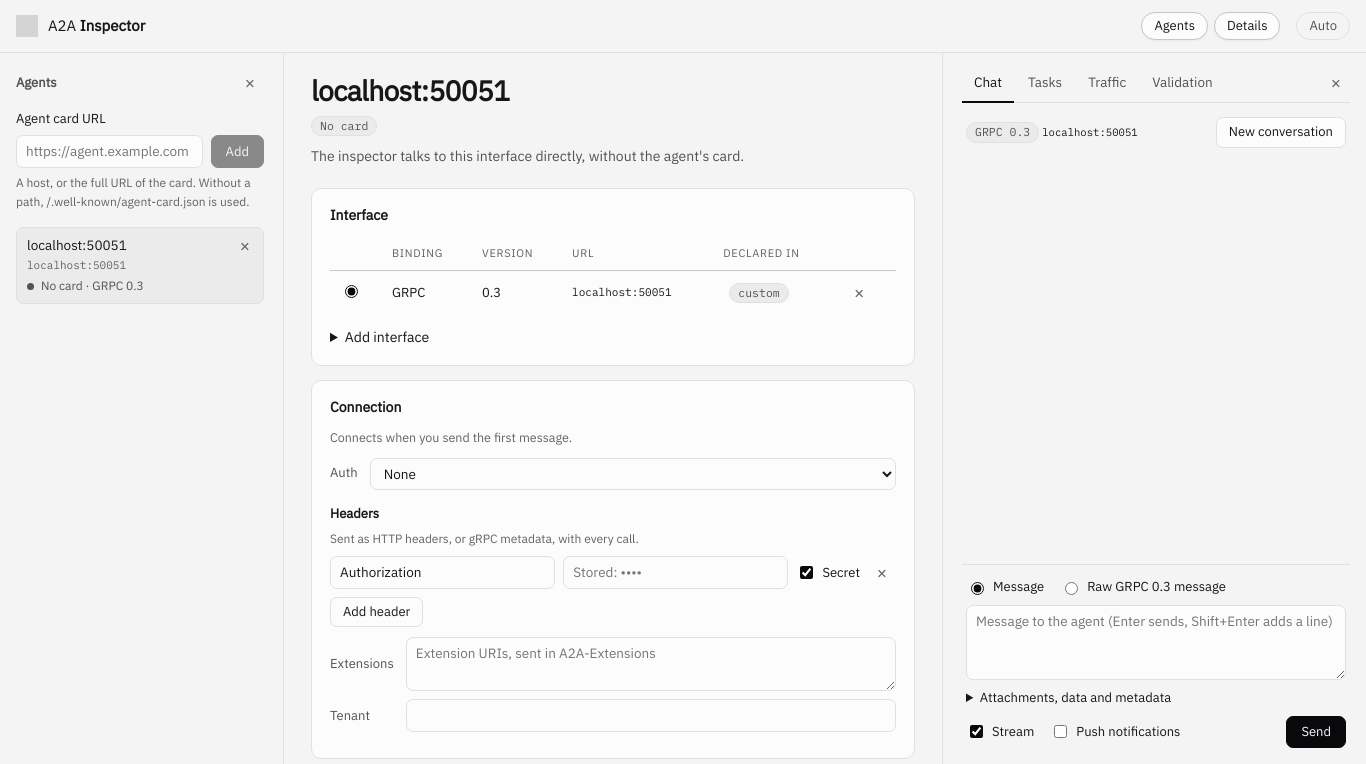
Test case: App › talking to agents › opens the endpoint given on the command line and adds interfaces by hand
The width and height of the screenshot is (1366, 764).
Expected: the text "No card" is shown, left=311, top=116, right=377, bottom=136
Expected: the text "No card · GRPC 0.3" is shown, left=27, top=277, right=144, bottom=296
Click the heading "Add interface": (387,337) left=345, top=328, right=429, bottom=346
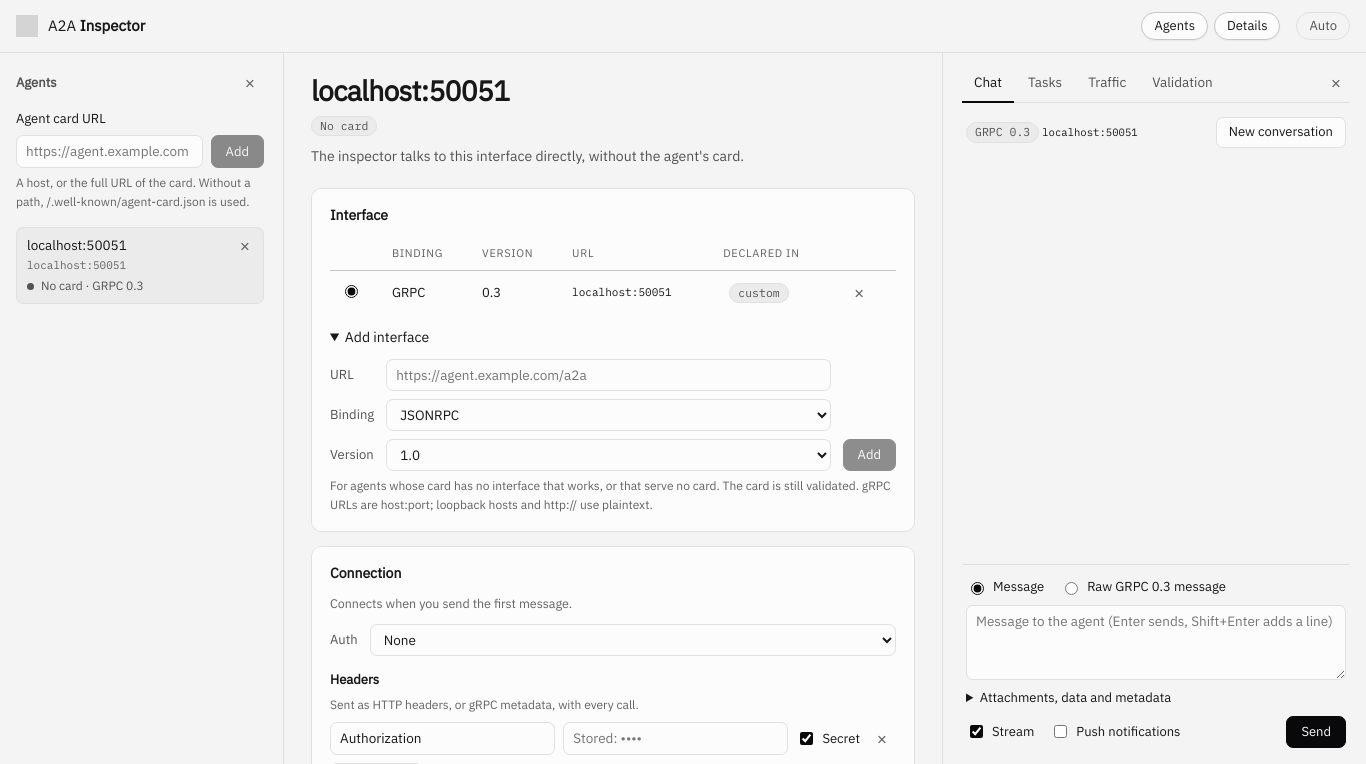
In the field labelled "URL": (608,375) left=386, top=358, right=831, bottom=391, type "http://localhost:9999/rest"
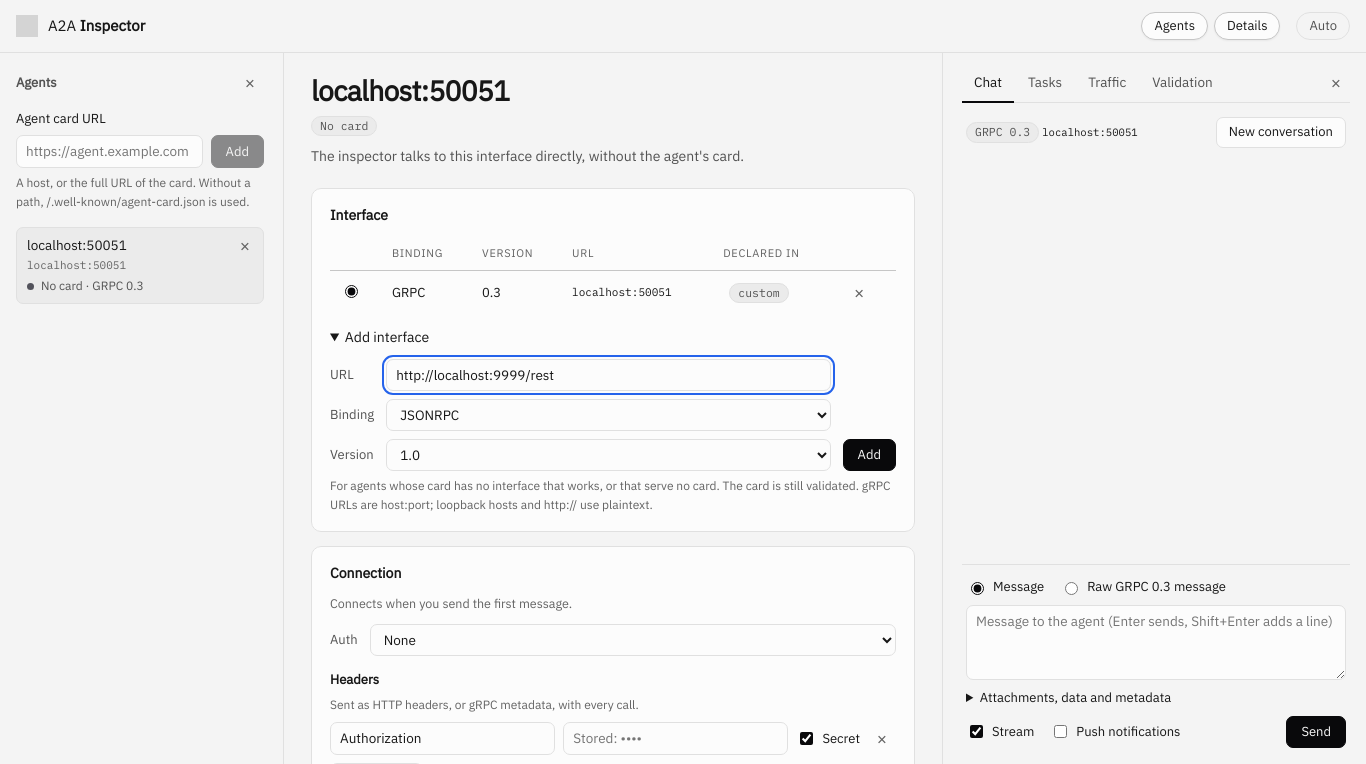
Select "HTTP+JSON" in the dropdown labelled "Binding": (608,415) left=386, top=399, right=831, bottom=431
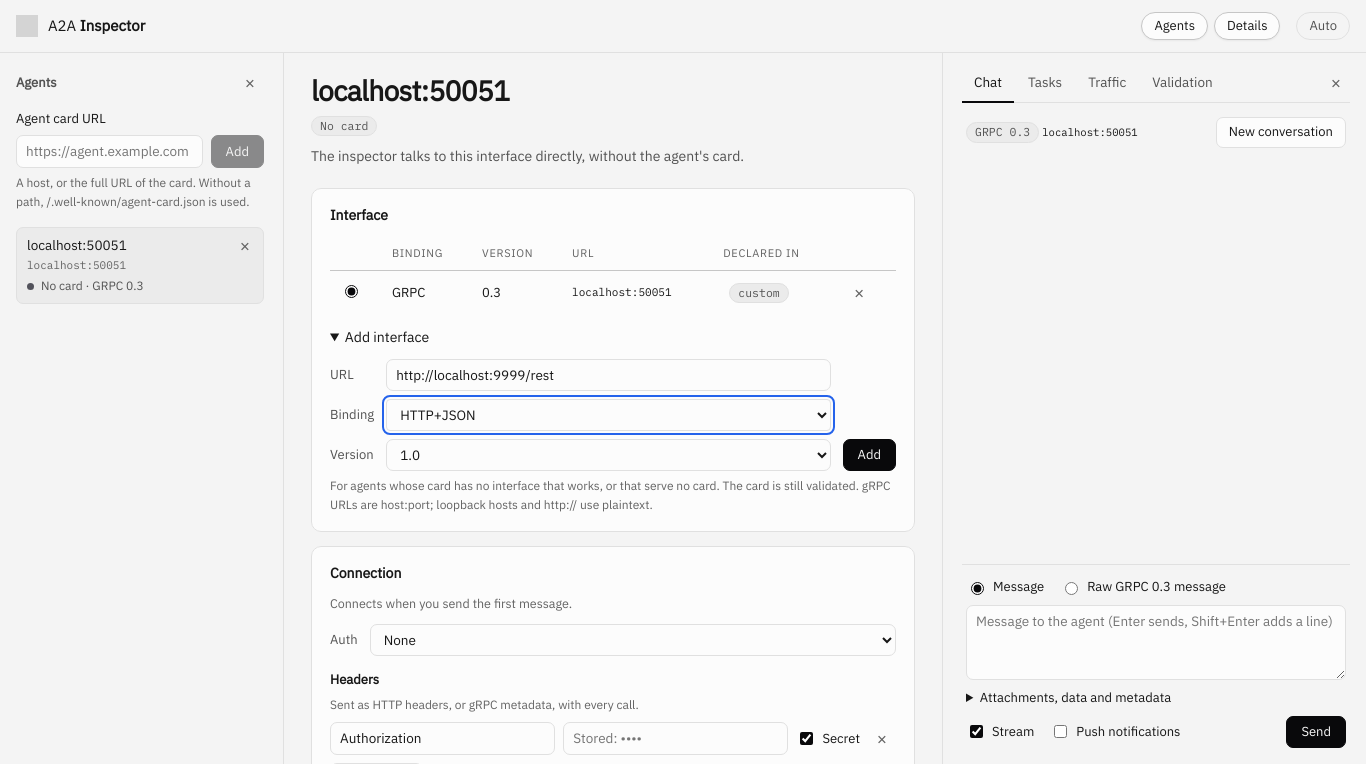
Click the button "Add" below "custom": (869,455) left=843, top=439, right=896, bottom=471
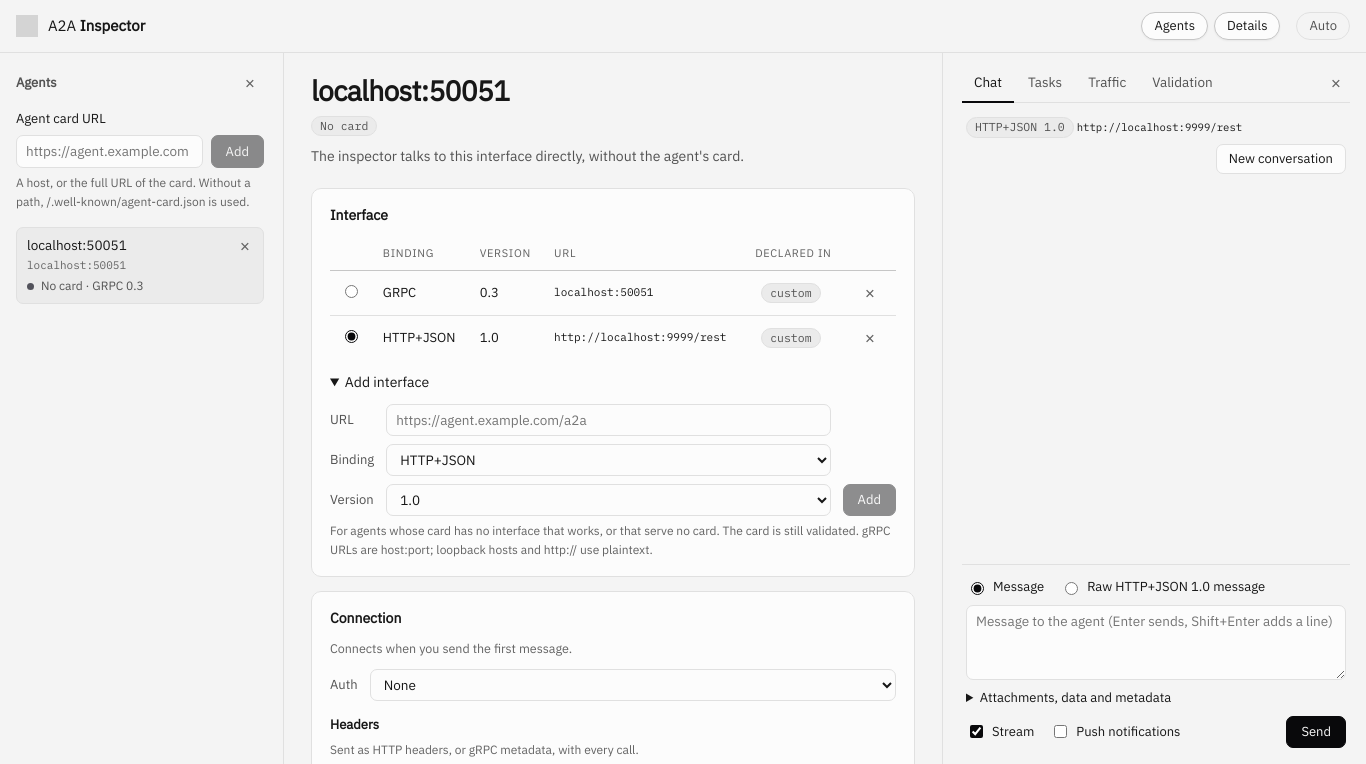
Expected: the radio button named "HTTP+JSON 1.0 at http://localhost:9999/rest" is checked, left=345, top=330, right=358, bottom=343
Click the button named "Remove the custom interface HTTP+JSON": (870,338) left=856, top=324, right=884, bottom=352
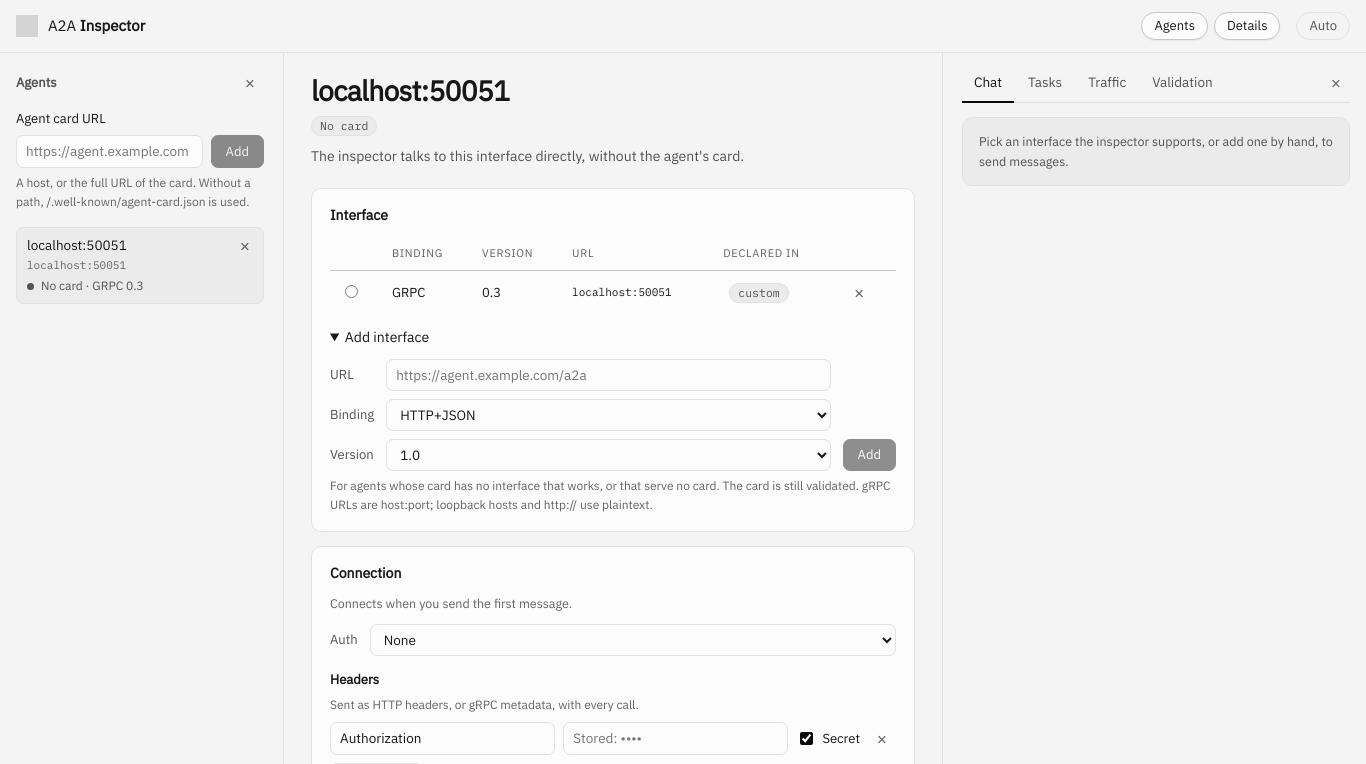
Expected: the text "http://localhost:9999/rest" is gone
